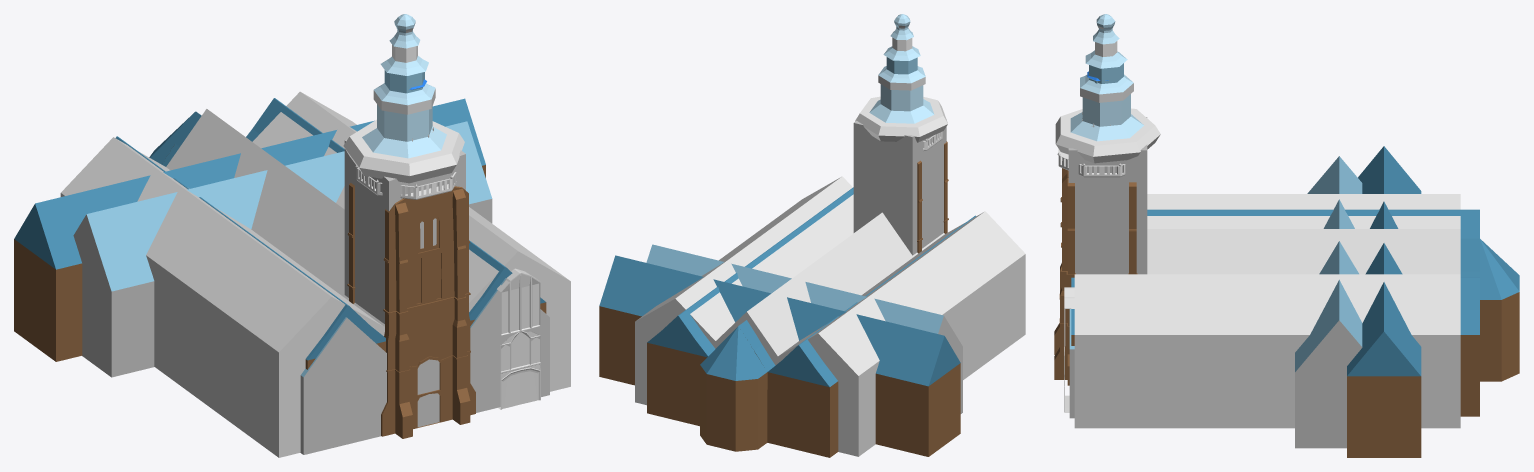
File: kerk_vlissingen_no_textures.fbx
3 views of the same model, side by side, from view 1: azimuth 30°, elevation 25°; view 2: azimuth 150°, elevation 25°; view 3: azimuth 270°, elevation 25° (orthographic). The views are drawn at different scales.
Visible parts, largest first — view 1: Cube.004, Cylinder, Cube.001, Cube.002, Cube, Cube.006; view 2: Cylinder, Cube.004, Cube.002, Cube.001; view 3: Cube.004, Cylinder, Cube.002, Cube.001, Cube, Cube.006.
Part boxes in pixels (x1=…): Cube.004: x1=60, y1=91, x2=570, y2=457; Cylinder: x1=14, y1=79, x2=546, y2=438; Cube.001: x1=73, y1=121, x2=492, y2=377; Cube.002: x1=343, y1=14, x2=465, y2=427; Cube: x1=300, y1=278, x2=549, y2=454; Cube.006: x1=497, y1=268, x2=540, y2=409; Cylinder: x1=599, y1=131, x2=975, y2=457; Cube.004: x1=635, y1=176, x2=1025, y2=456; Cube.002: x1=853, y1=14, x2=947, y2=255; Cube.001: x1=646, y1=244, x2=962, y2=413; Cube.004: x1=1074, y1=194, x2=1460, y2=428; Cylinder: x1=1054, y1=71, x2=1519, y2=457; Cube.002: x1=1055, y1=14, x2=1160, y2=274; Cube.001: x1=1295, y1=156, x2=1362, y2=448; Cube: x1=1069, y1=309, x2=1074, y2=418; Cube.006: x1=1064, y1=287, x2=1074, y2=412.
Bounding box in the file's own units: 1272 × 1119 × 1348.
